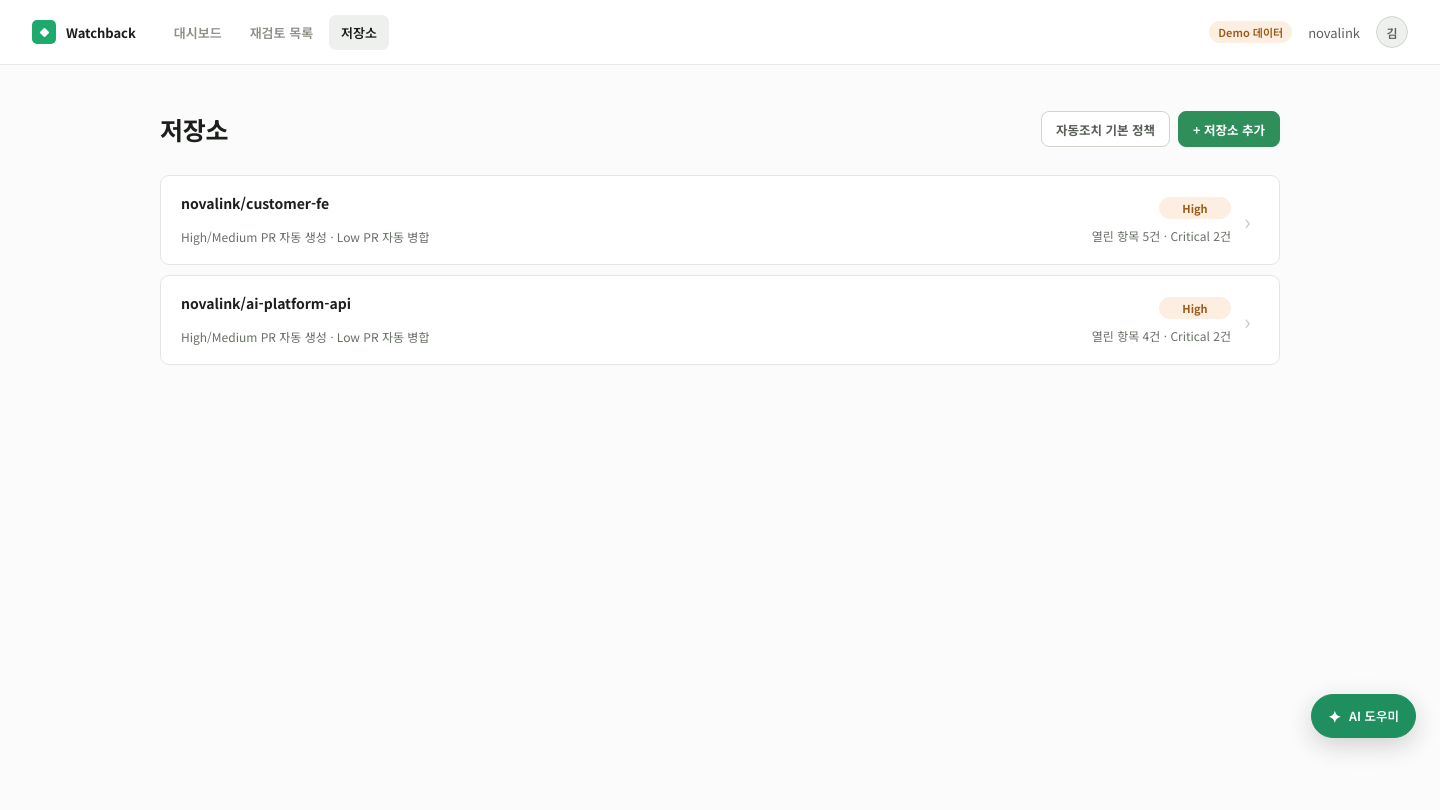
Test case: Watchback review UI › adds a selected repository through the repository mock UI
The width and height of the screenshot is (1440, 810).
Click the button "+ 저장소 추가". click: (1229, 129)
box: [1178, 111, 1280, 147]
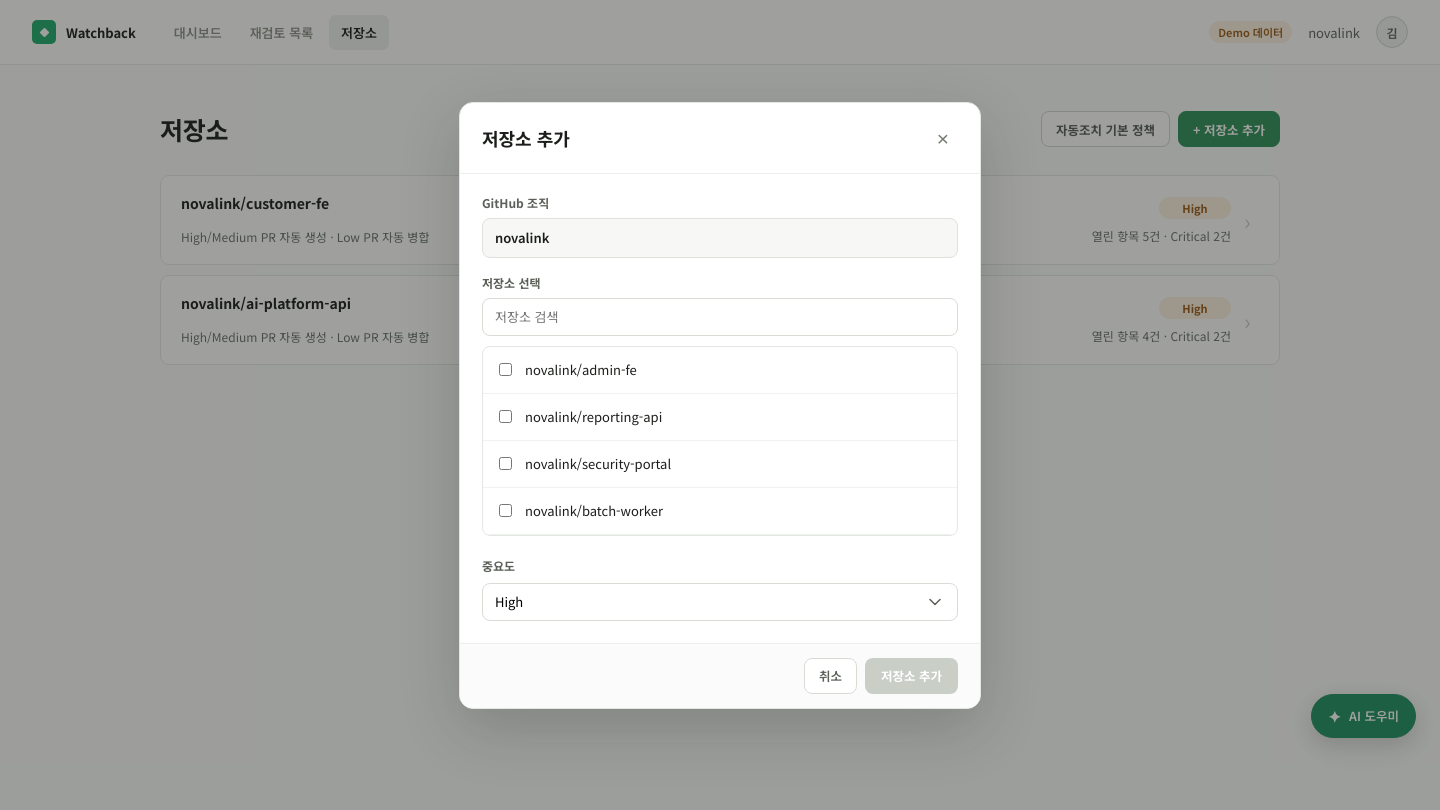
Click the checkbox labelled "novalink/security-portal". click: (506, 464)
box: [499, 457, 512, 470]
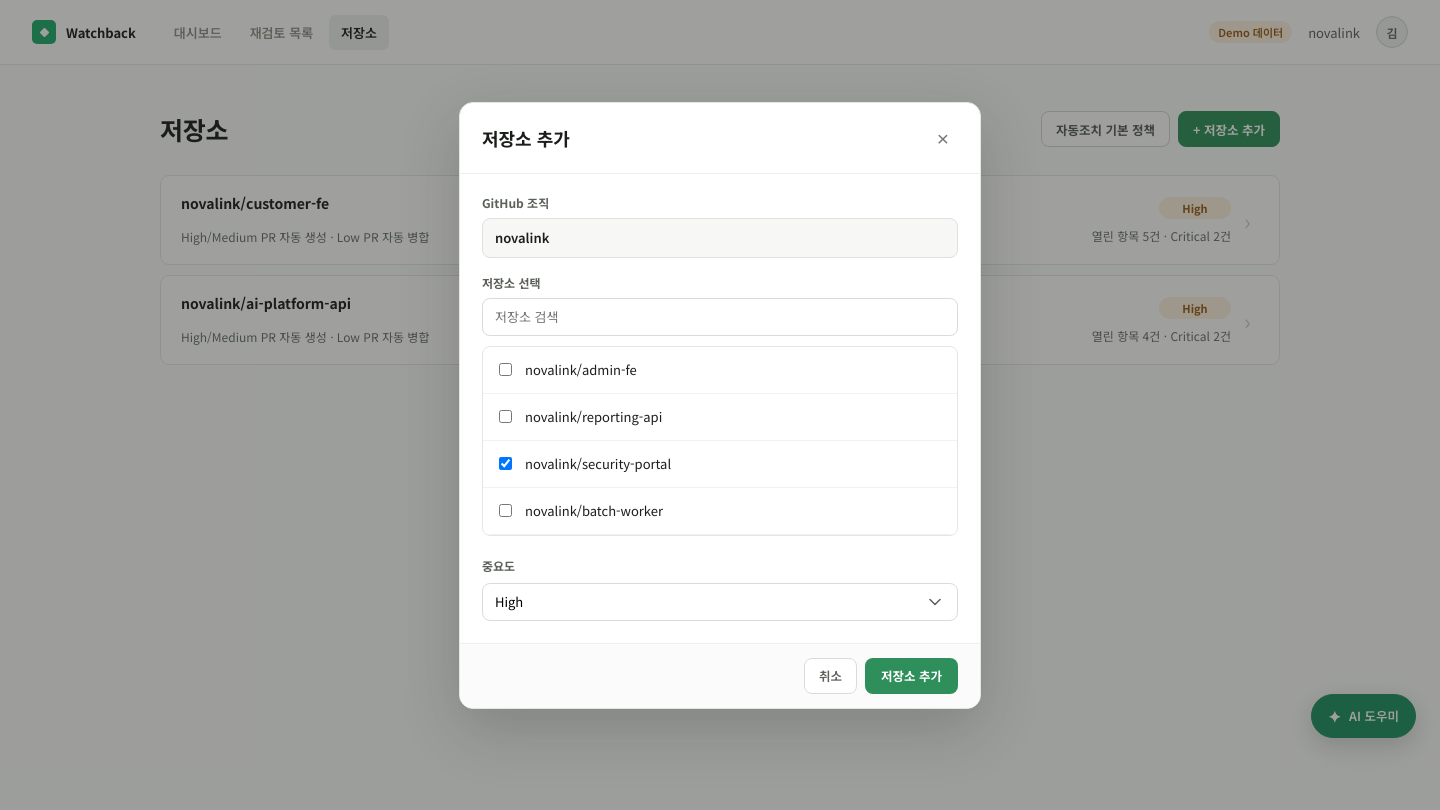
Select "Medium" in the dropdown named "저장소 중요도". click: (720, 602)
box: [482, 582, 958, 620]
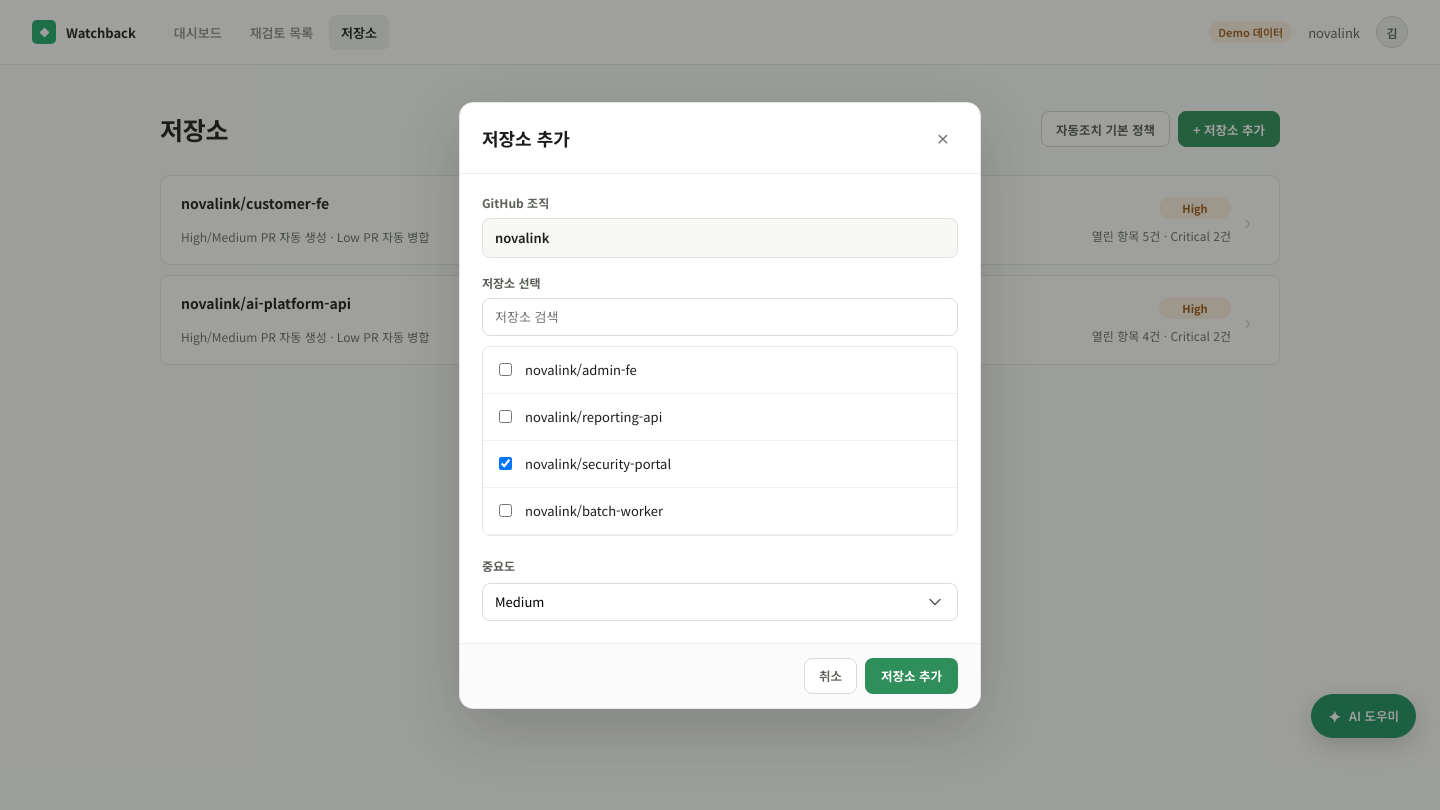
Click the button "저장소 추가". click: (912, 676)
box: [865, 658, 958, 694]
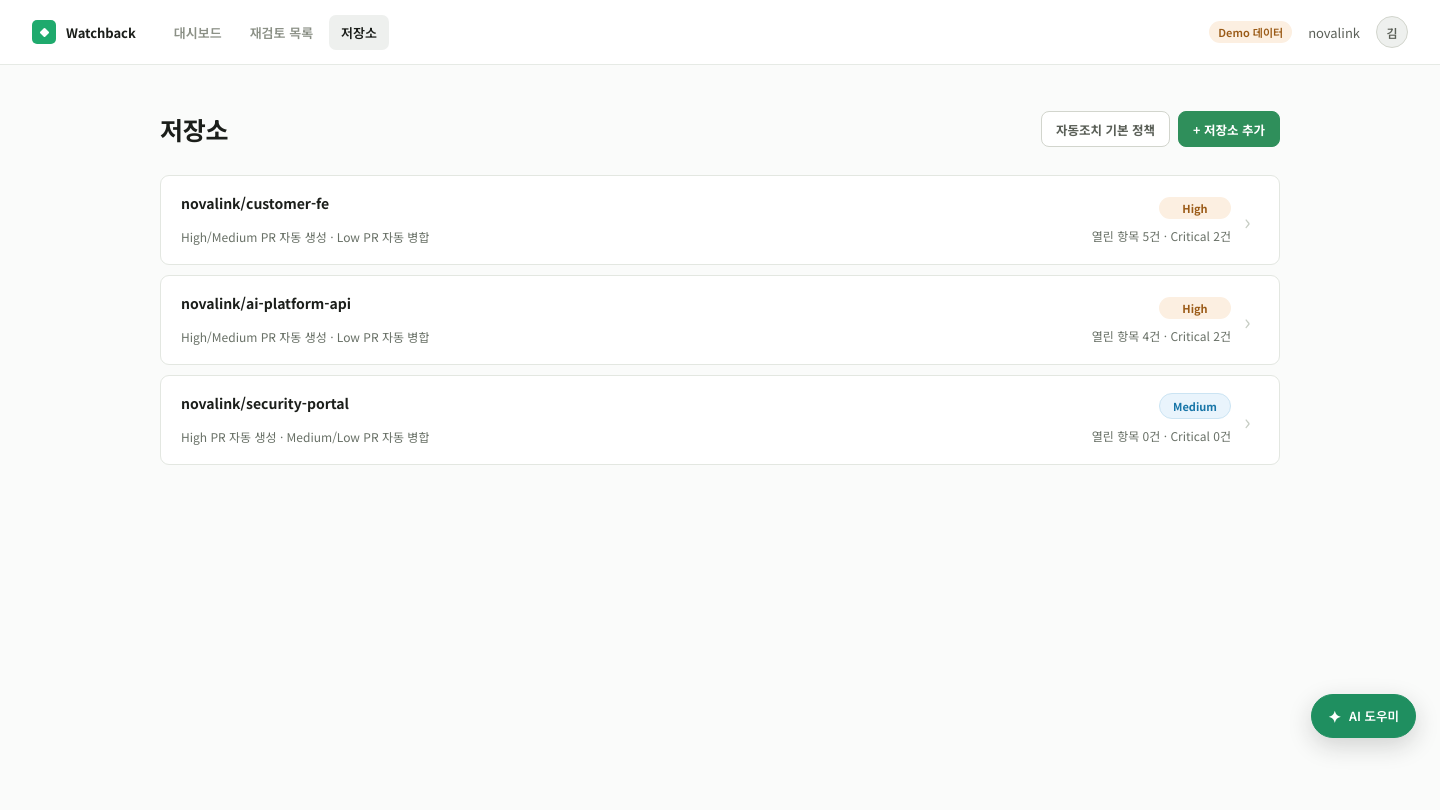
Check: the text "novalink/security-portal" is shown, box [181, 393, 349, 413]
Check: the text "Medium" is shown, box [1159, 393, 1231, 419]
